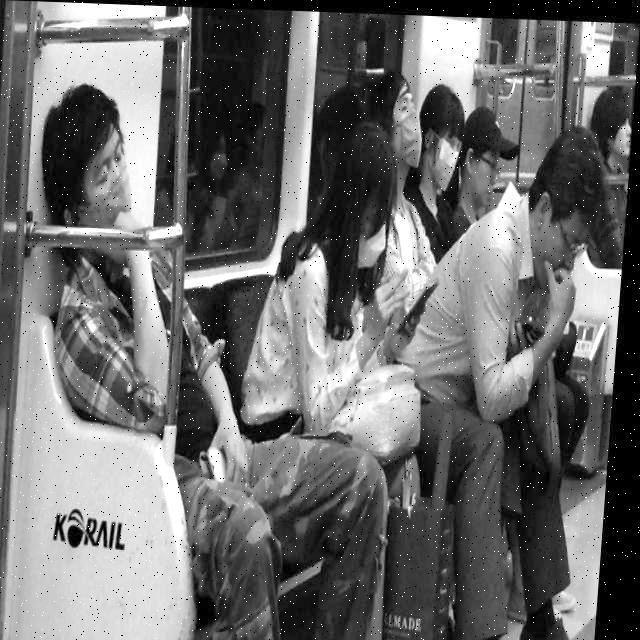mask: (82, 183, 146, 232), (400, 119, 430, 170), (430, 142, 457, 196), (353, 229, 388, 263)
no_apron: (208, 420, 260, 498), (540, 264, 584, 334), (364, 275, 412, 331)
no_gloves: (40, 85, 118, 148), (334, 126, 389, 210), (539, 136, 595, 204), (590, 81, 626, 135), (468, 105, 502, 150), (380, 76, 427, 108), (428, 84, 456, 134)
no_hairnet: (536, 238, 585, 268), (472, 163, 502, 207)
